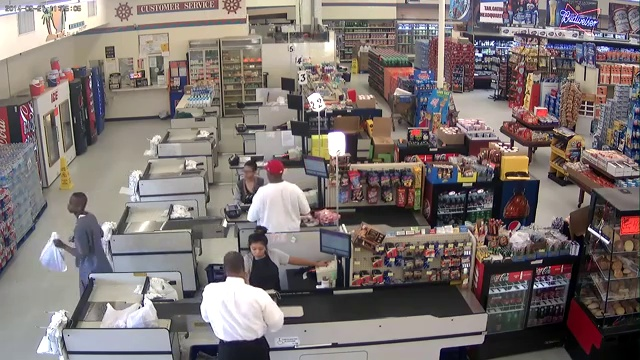face: (249, 242, 265, 257), (67, 197, 79, 215), (243, 167, 254, 179)
